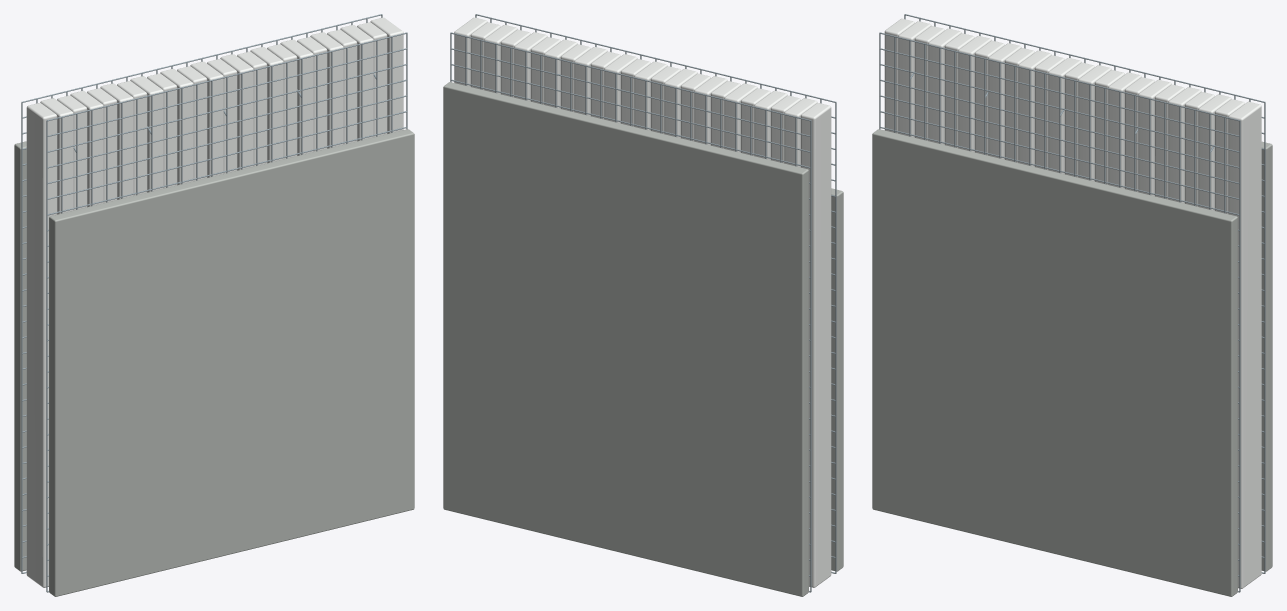
The model's file is panel.glb.
3 views of the same model, side by side, from view 1: azimuth 30°, elevation 25°; view 2: azimuth 150°, elevation 25°; view 3: azimuth 330°, elevation 25° (orthographic).
Visible parts, largest first — view 1: Concrete face front, Corrugated EPS, Welded mesh, Concrete face back, Welded mesh.001; view 2: Concrete face back, Corrugated EPS, Welded mesh.001, Concrete face front, Welded mesh; view 3: Concrete face front, Corrugated EPS, Welded mesh, Concrete face back, Welded mesh.001.
Boxes of the visible parts, x1=… form: Concrete face front: x1=49, y1=129, x2=414, y2=596; Corrugated EPS: x1=26, y1=17, x2=403, y2=587; Welded mesh: x1=46, y1=32, x2=407, y2=592; Concrete face back: x1=14, y1=141, x2=26, y2=571; Welded mesh.001: x1=21, y1=14, x2=382, y2=573; Concrete face back: x1=443, y1=82, x2=808, y2=596; Corrugated EPS: x1=454, y1=17, x2=831, y2=587; Welded mesh.001: x1=450, y1=32, x2=811, y2=592; Concrete face front: x1=831, y1=188, x2=843, y2=571; Welded mesh: x1=475, y1=14, x2=836, y2=573; Concrete face front: x1=872, y1=129, x2=1237, y2=596; Corrugated EPS: x1=884, y1=18, x2=1261, y2=588; Welded mesh: x1=879, y1=32, x2=1240, y2=592; Concrete face back: x1=1261, y1=141, x2=1272, y2=571; Welded mesh.001: x1=904, y1=14, x2=1265, y2=573.
Size of the model in its own units: 2.41 by 3.01 by 0.475.
